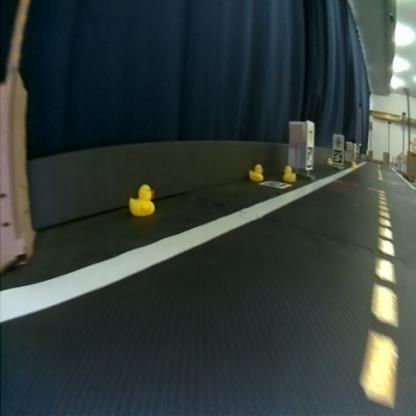Duckie: (130, 184, 156, 215), (250, 164, 264, 180), (284, 165, 296, 181), (353, 161, 358, 167)
Intersection sign: (308, 122, 314, 145), (336, 134, 344, 148)
QR code: (260, 180, 292, 188), (334, 150, 344, 164), (308, 146, 314, 168)
